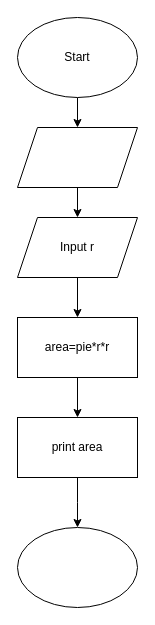
This 155x625 diagram has some shape labels left out. Each missing label, with the centre of its shape:
constant pie =3.14: [77,157]
Stop: [77,567]
